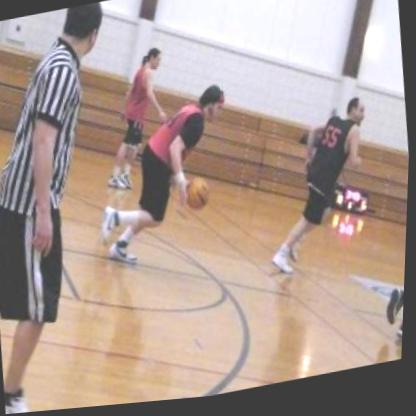basketball: (180, 175, 213, 218)
